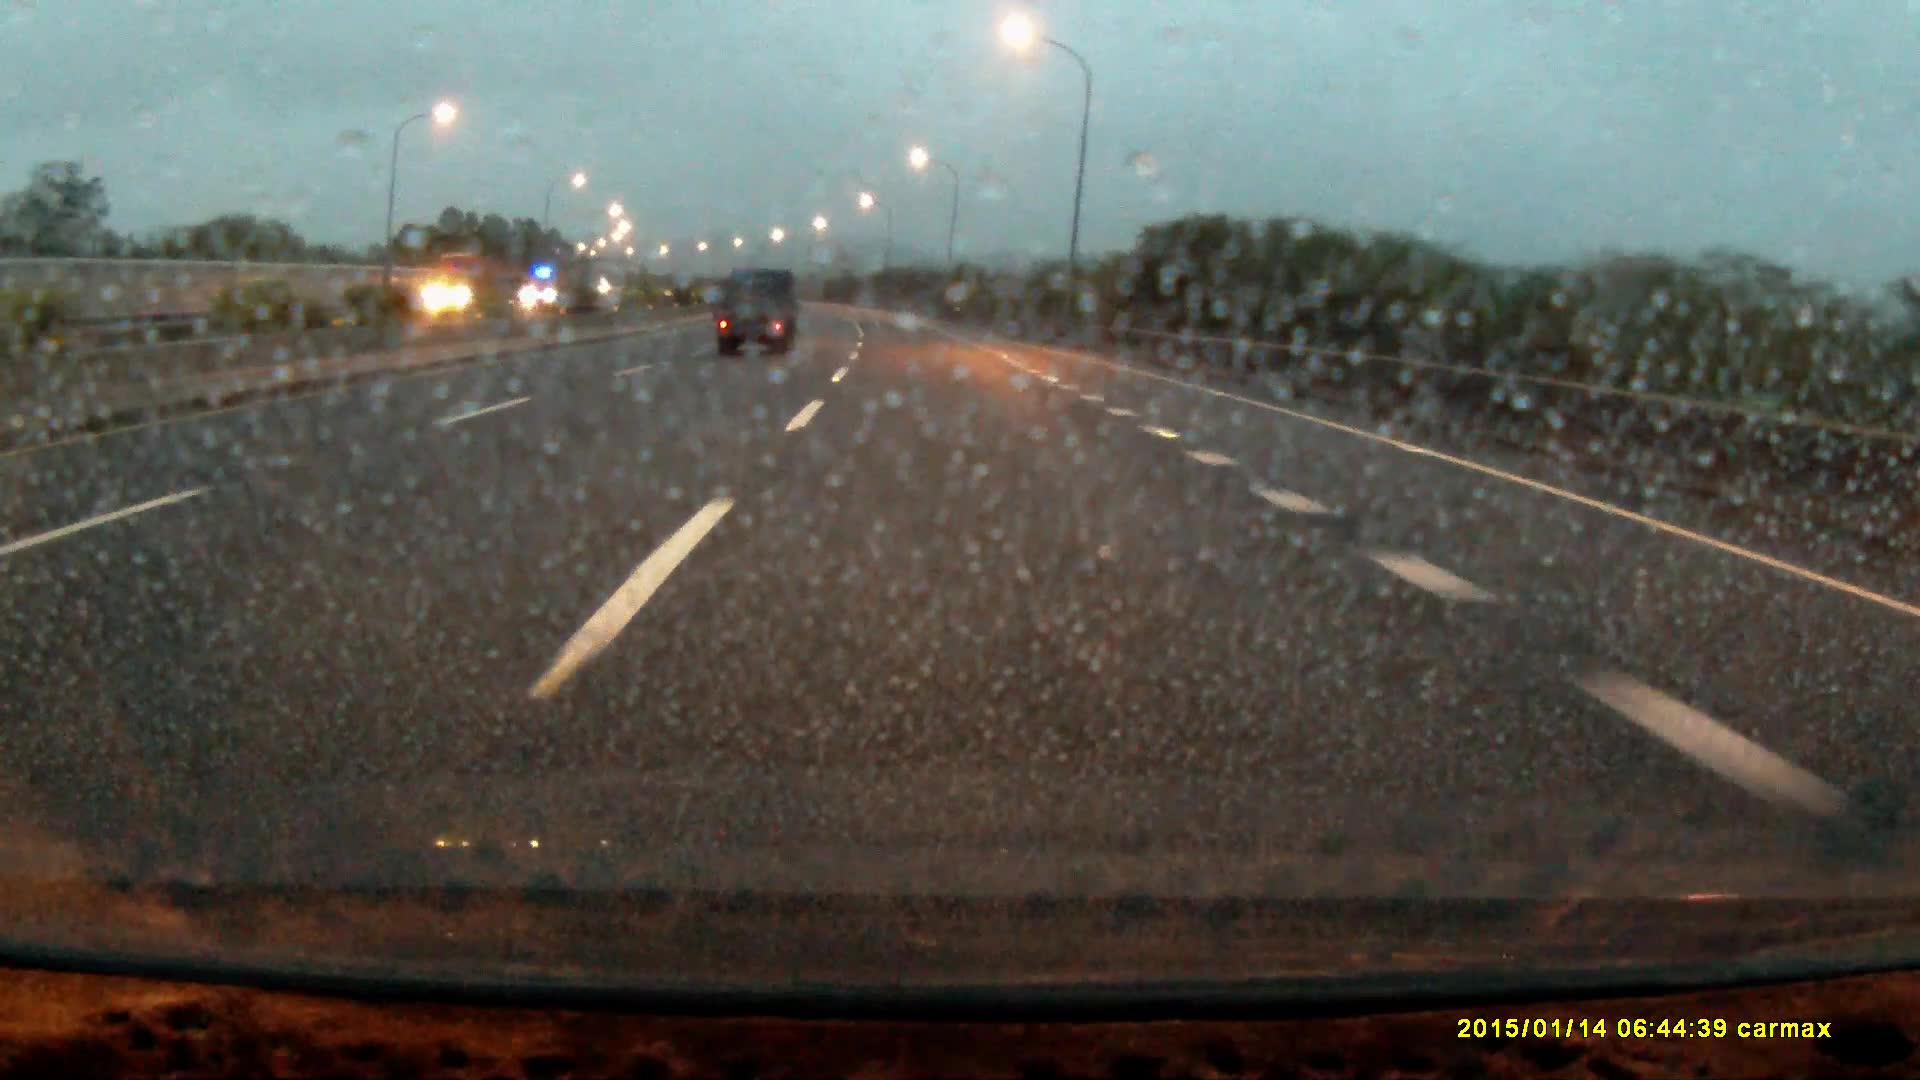vehicle: (717, 266, 798, 360), (429, 251, 516, 315)
